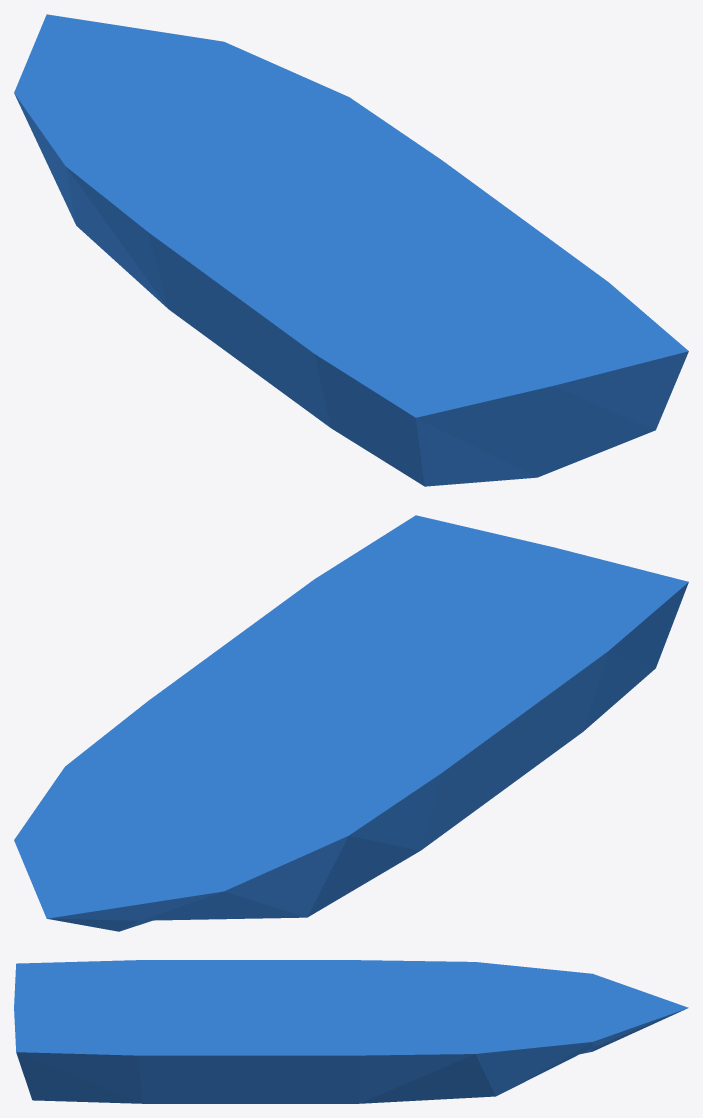
The model's file is leg.FBX.
The picture shows the model from 3 angles, top to bottom: view 1: azimuth 30°, elevation 25°; view 2: azimuth 150°, elevation 25°; view 3: azimuth 270°, elevation 25°; orthographic projection. The views are drawn at different scales.
Visible parts, largest first — view 1: VIFS001; view 2: VIFS001; view 3: VIFS001.
Part boxes in pixels (<box>): VIFS001: <box>14,14,688,486</box>; VIFS001: <box>14,515,688,931</box>; VIFS001: <box>14,960,688,1103</box>.
Size of the model in its own units: 0.42 by 0.142 by 1.25.
